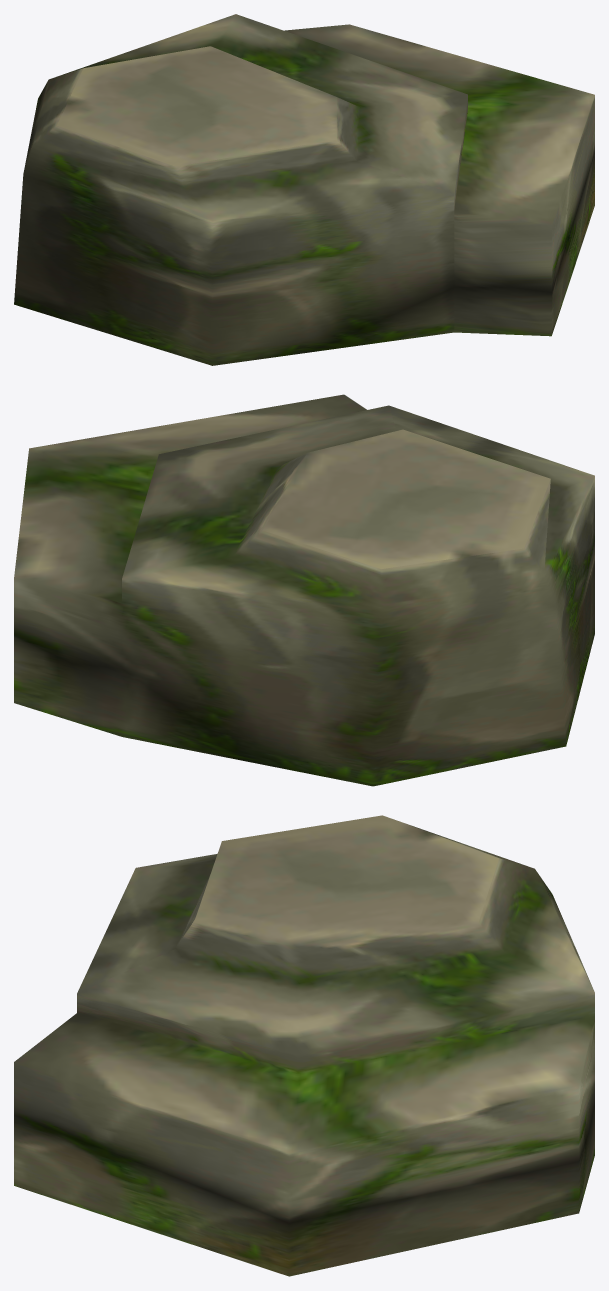
The model's file is RockFormation_4_5 (7).fbx.
3 views of the same model, one above another, from view 1: azimuth 30°, elevation 25°; view 2: azimuth 150°, elevation 25°; view 3: azimuth 270°, elevation 25° (orthographic). The views are drawn at different scales.
Visible parts, largest first — view 1: RockFormation_4_5 (7); view 2: RockFormation_4_5 (7); view 3: RockFormation_4_5 (7).
Part boxes in pixels (x1=…): RockFormation_4_5 (7): x1=14, y1=14, x2=594, y2=365; RockFormation_4_5 (7): x1=14, y1=394, x2=594, y2=786; RockFormation_4_5 (7): x1=14, y1=815, x2=594, y2=1276.
Size of the model in its own units: 482 by 146 by 404.
